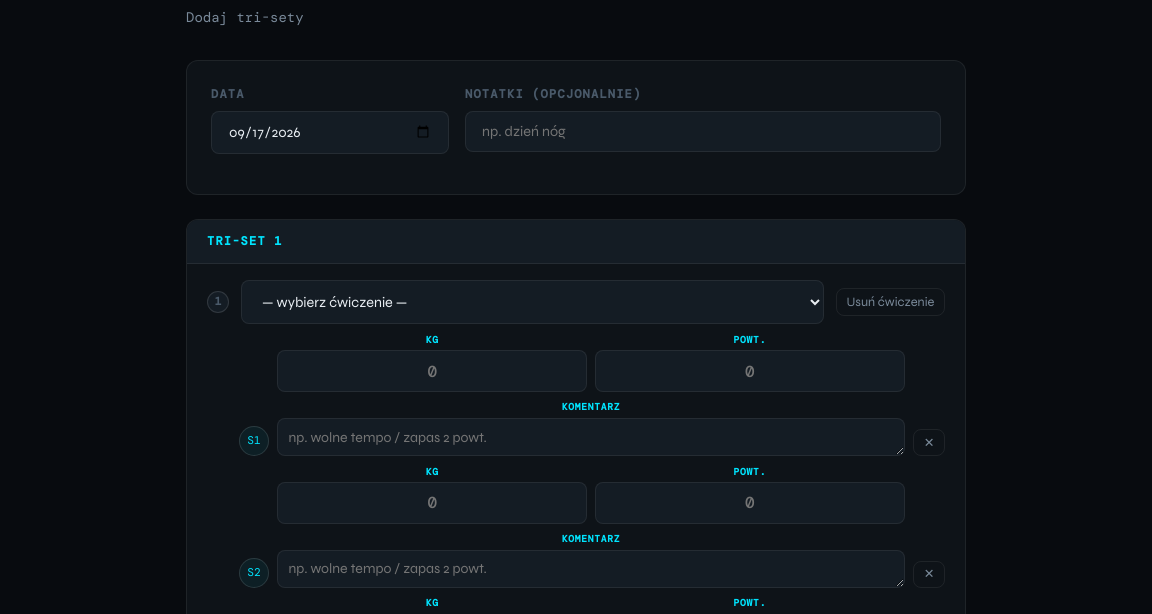
Test: NewSession exercise suggestions › fills all series from suggestion history
This screenshot has width=1152, height=614.
Select "Wykroki z hantlami" in the dropdown at (532, 302), box [241, 280, 824, 324]
(page scrolled)
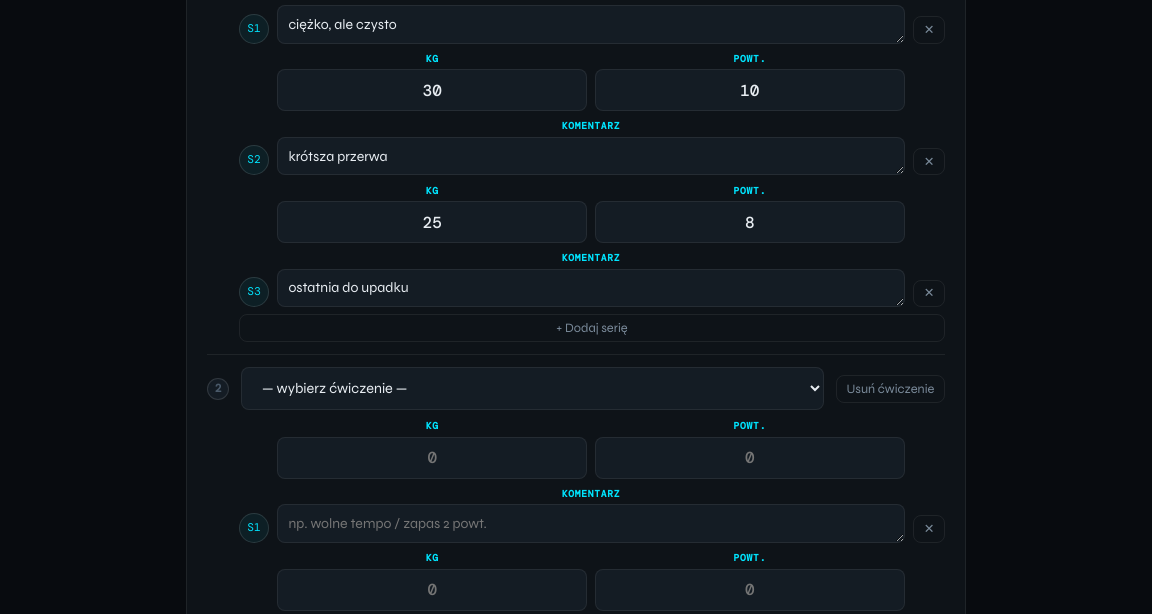
Now the 1st text box holds "ciężko, ale czysto", box [277, 5, 905, 44]
Now the 2nd text box holds "krótsza przerwa", box [277, 137, 905, 175]
Now the 3rd text box holds "ostatnia do upadku", box [277, 269, 905, 307]
